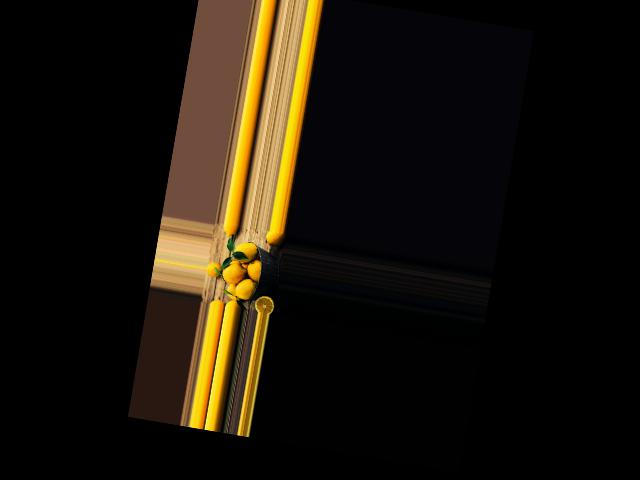lemon: (234, 274, 263, 302)
